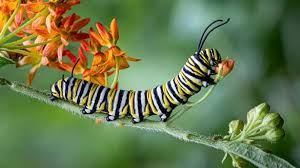Caterpillar: (50, 17, 226, 125)
